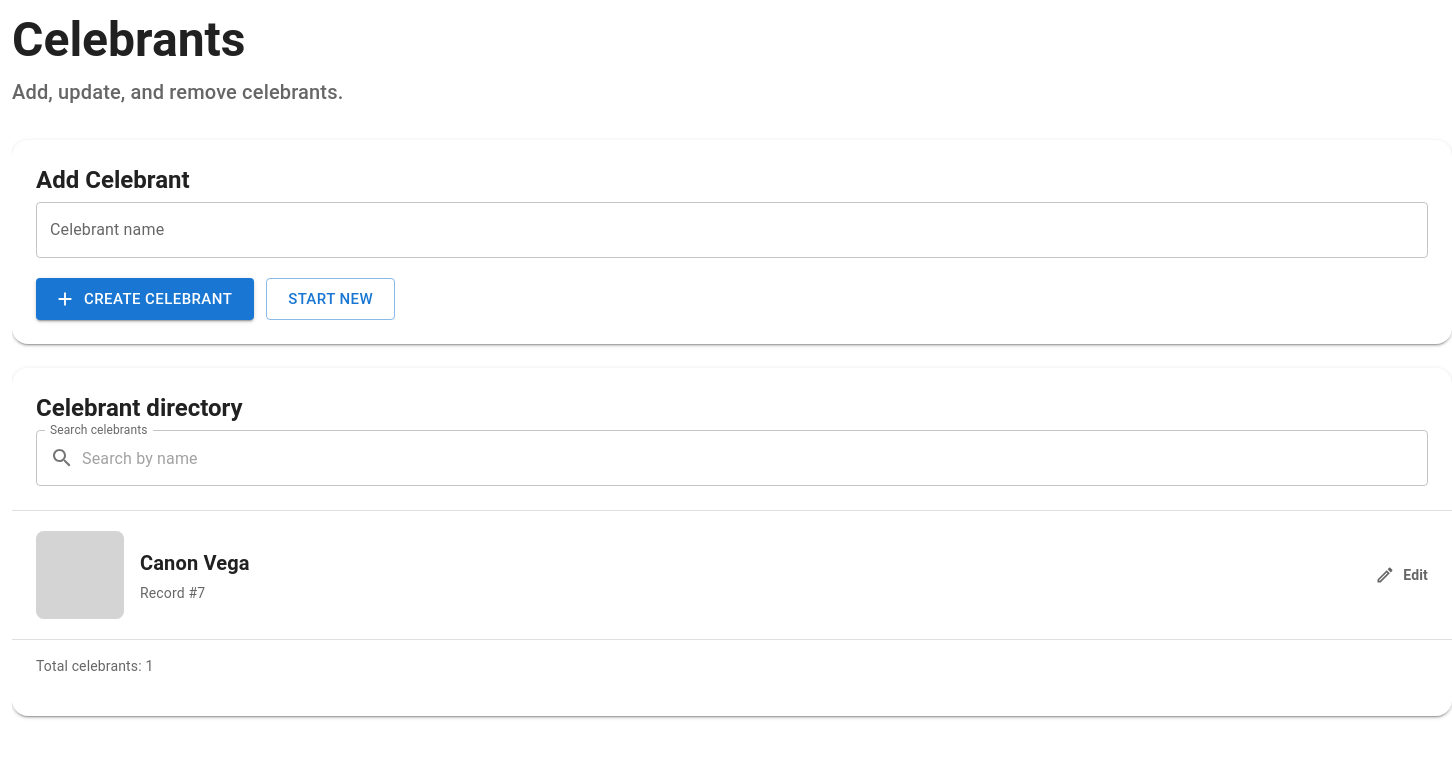
Scenario: CelebrantManagementPage › lets users dismiss feedback with the close button
The width and height of the screenshot is (1452, 762).
Click the button "Canon Vega Record #7 Edit".
click(732, 575)  # box [12,511,1451,639]
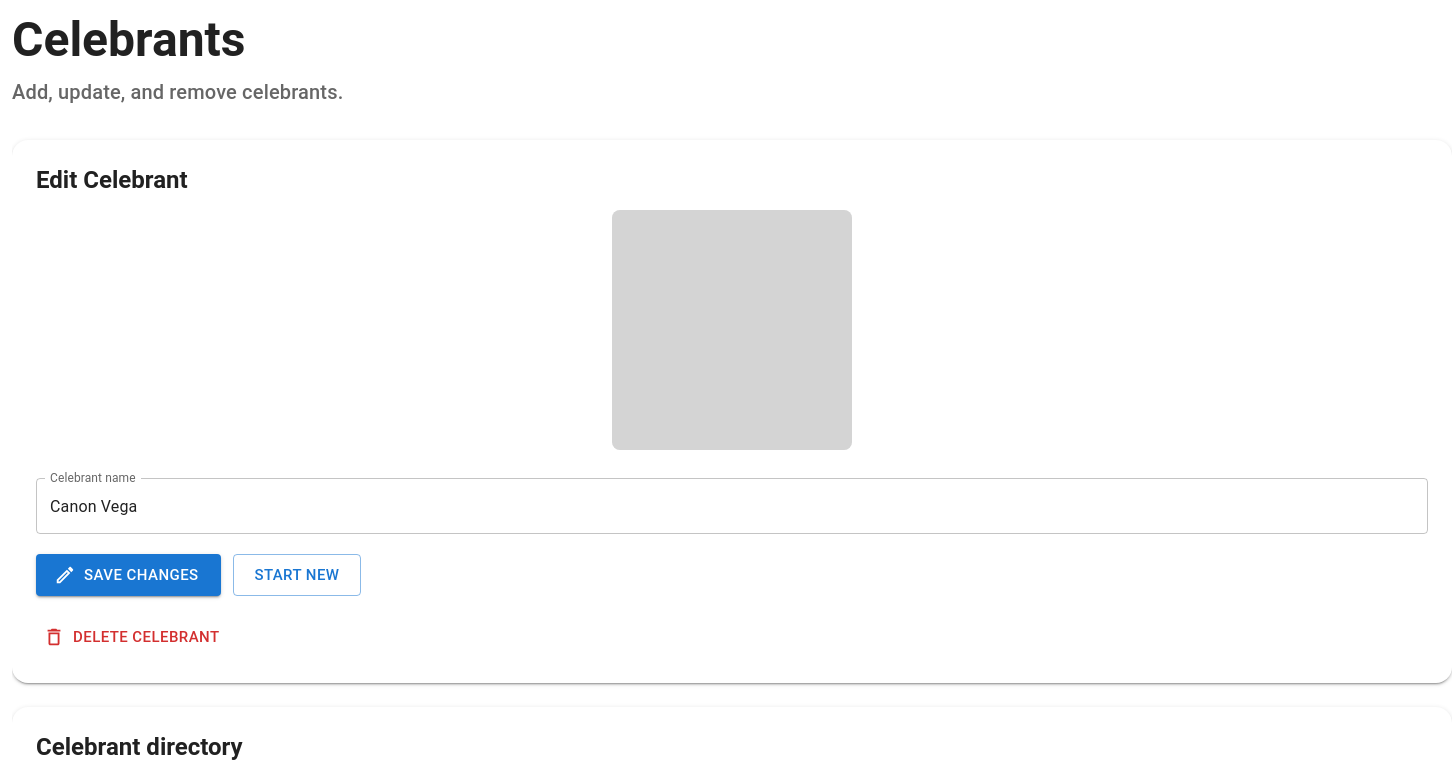
Replace the text in the field labelled "Celebrant name" with "Canon Vega-Soto" at coordinates (732, 506), box [36,478,1428,534]
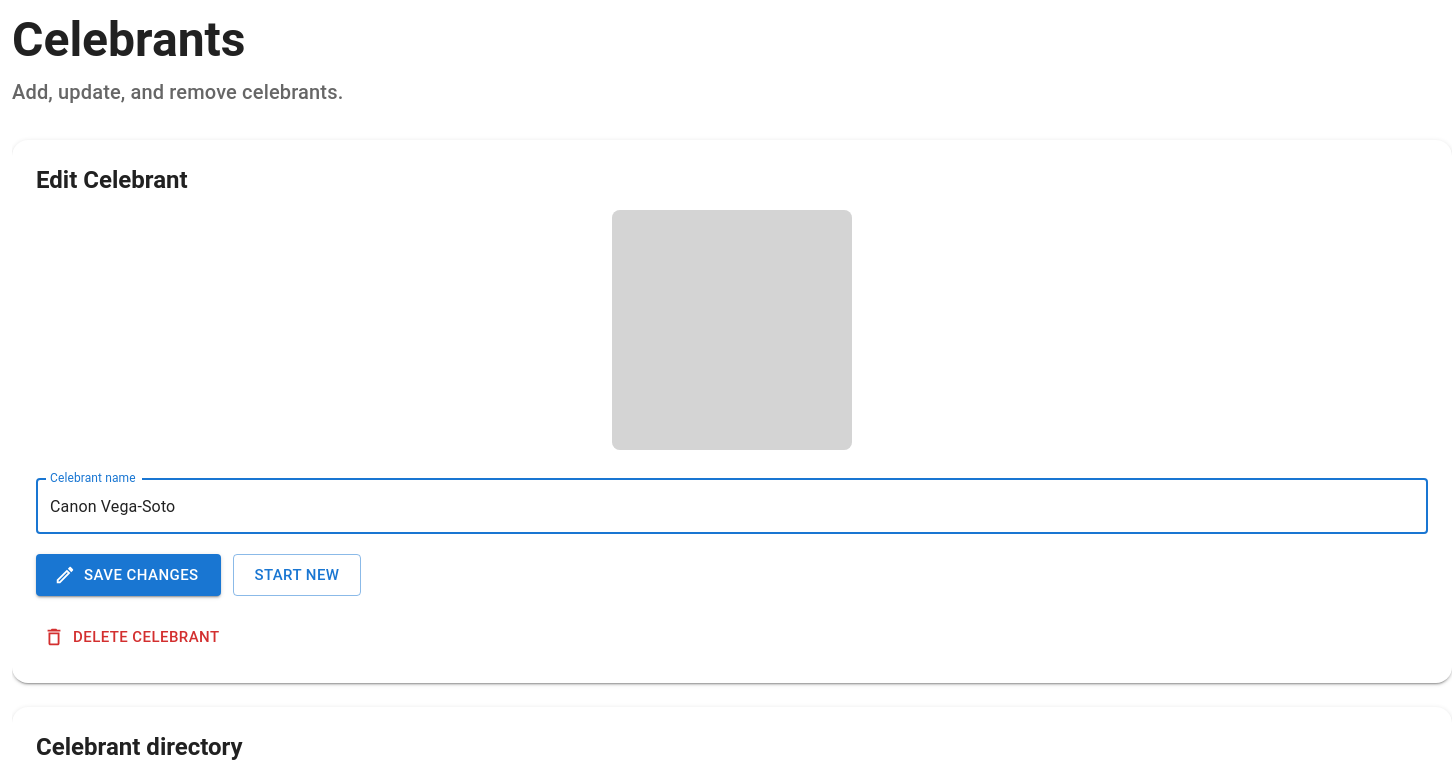
Click the button "Save Changes".
click(128, 575)  # box [36,554,220,596]
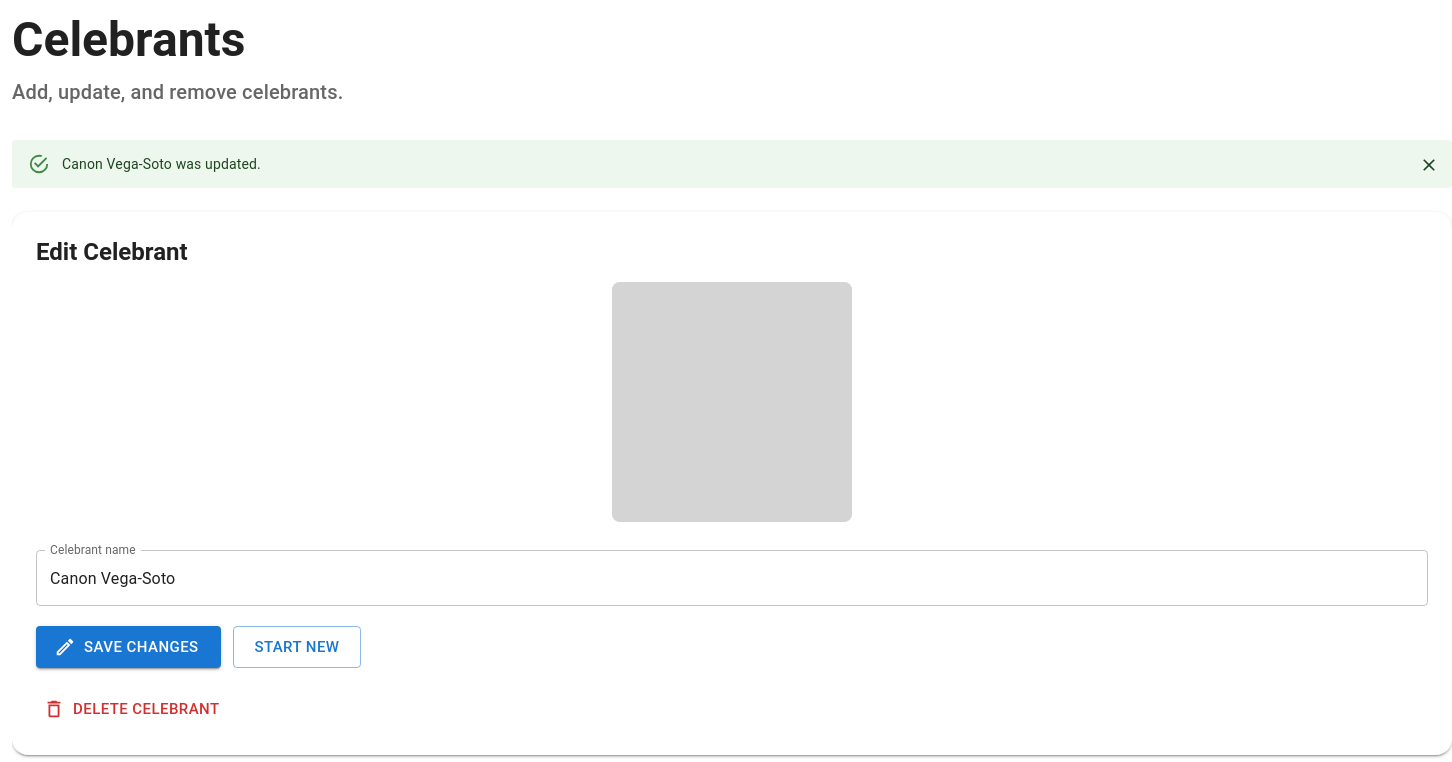
Now the text "Canon Vega-Soto was updated." is shown, box [62,156,261,172]
Click the button named "close".
click(1429, 165)  # box [1414,150,1444,180]
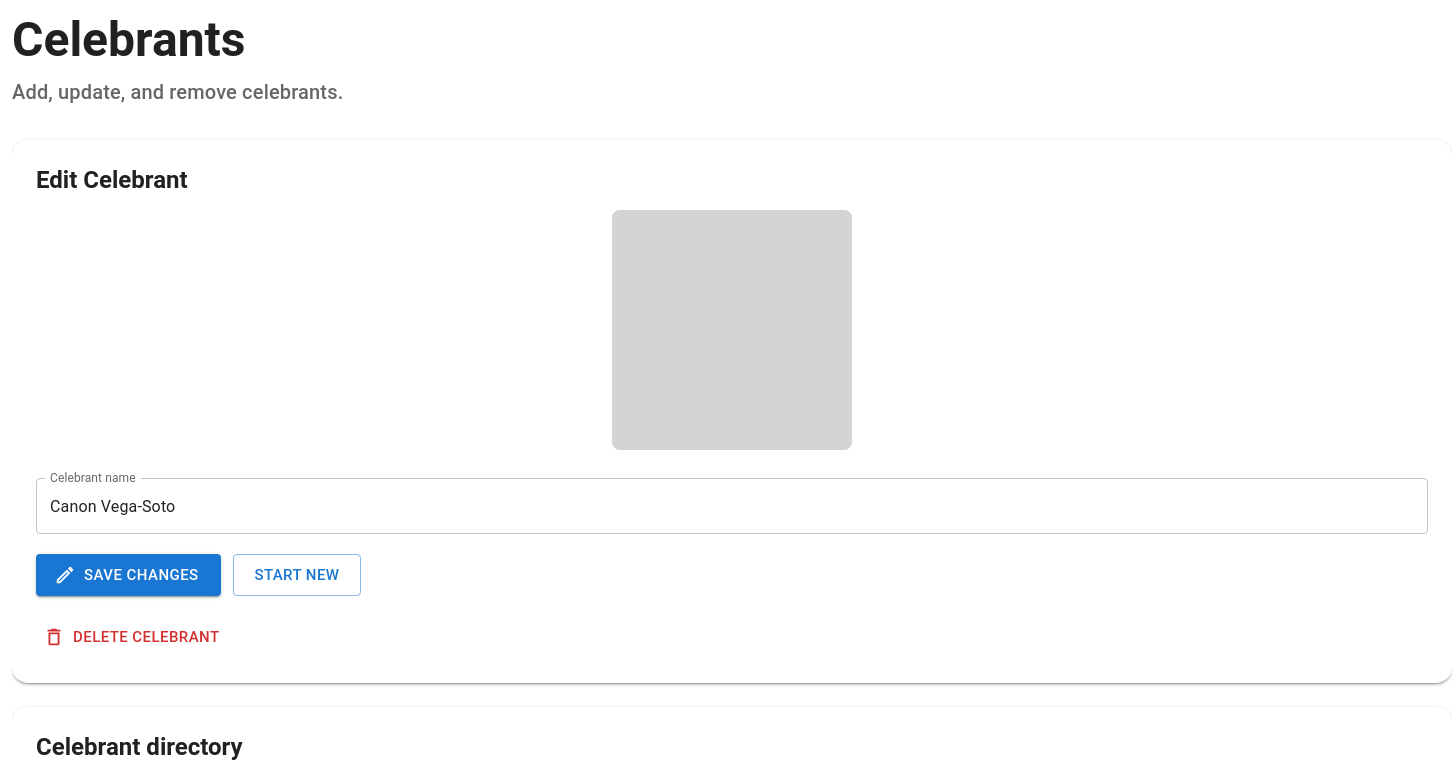
Now the text "Canon Vega-Soto was updated." is gone
